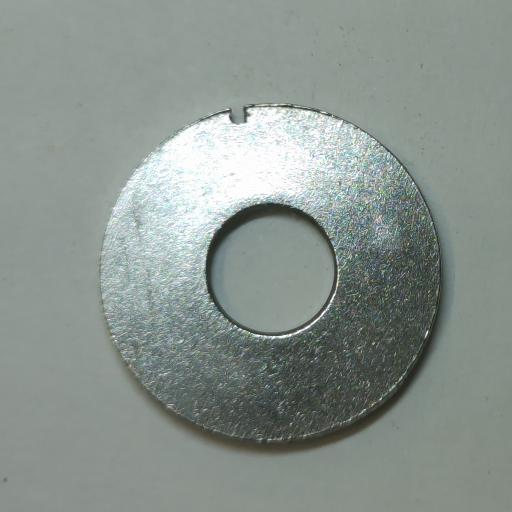burr: (229, 106, 251, 125)
